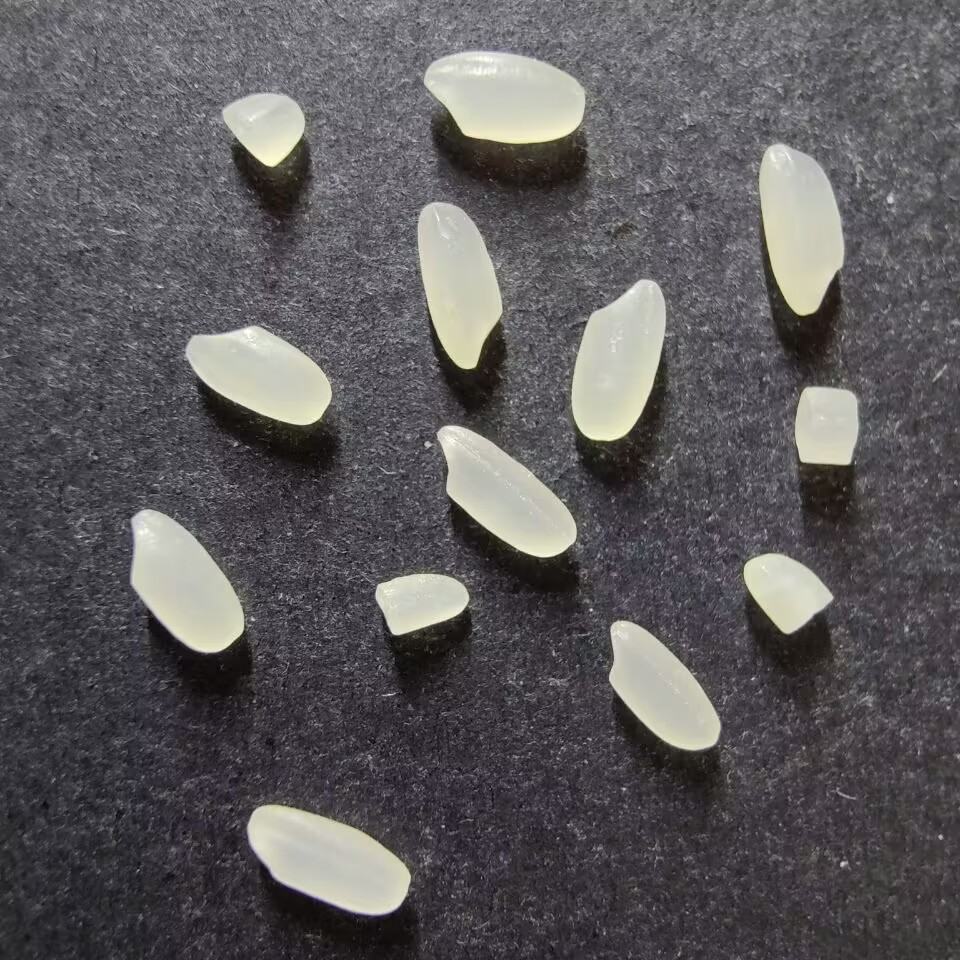broken: (743, 552, 833, 635), (220, 91, 305, 167), (374, 573, 469, 636), (793, 386, 859, 466)
rice: (435, 424, 577, 558), (246, 804, 410, 917), (128, 508, 245, 653), (570, 278, 666, 442), (422, 50, 586, 144), (758, 143, 845, 316), (184, 325, 332, 426), (608, 619, 721, 751), (416, 201, 503, 369)
